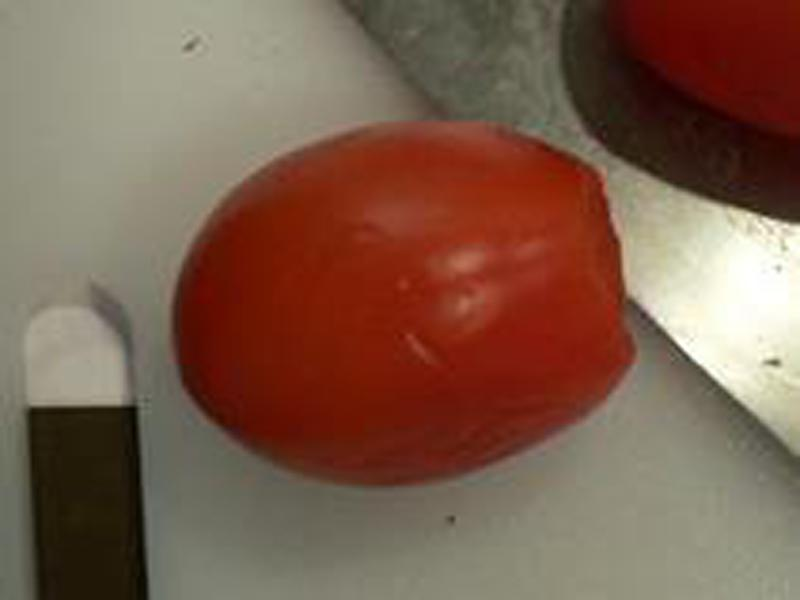Tomato: (171, 118, 633, 486)
